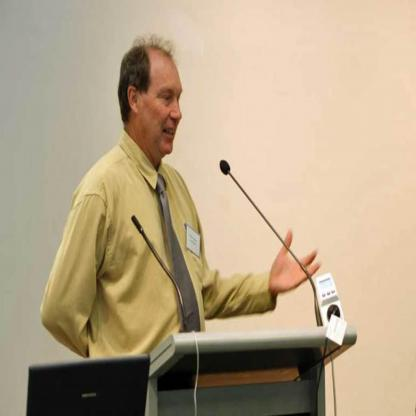board: (26, 354, 150, 415)
